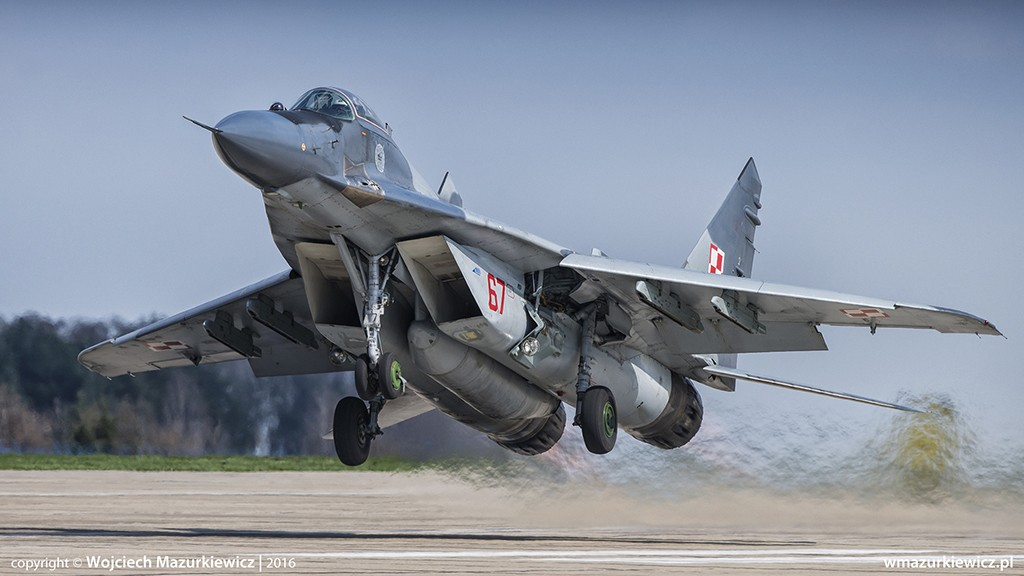Mig-29: (89, 49, 859, 488)
